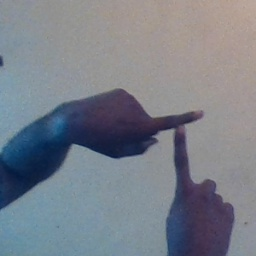T: (123, 88, 232, 218)
